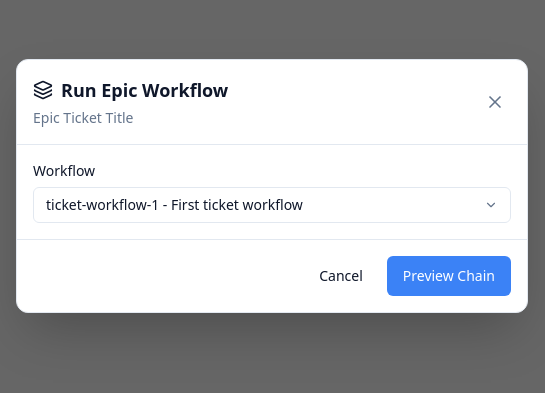
it: RunEpicWorkflowDialog › chain preview › displays ordered child tickets after preview
The width and height of the screenshot is (545, 393).
What coordinates should you click on to do the following:
click the button "Preview Chain"
I would click on:
 (449, 276)
Its box is [387,256,511,296].
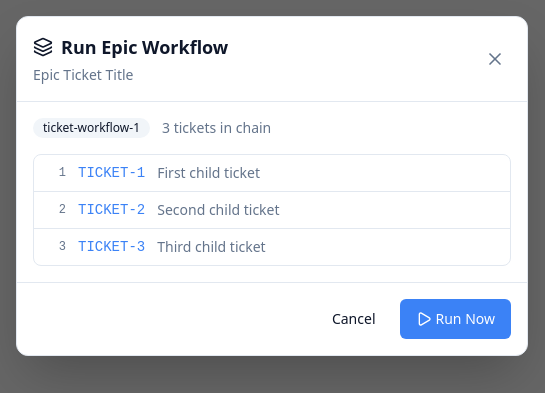
expect the text "TICKET-1" is shown: met, box [78,163,145,183]
expect the text "First child ticket" is shown: met, box [157,163,260,183]
expect the text "TICKET-2" is shown: met, box [78,200,145,220]
